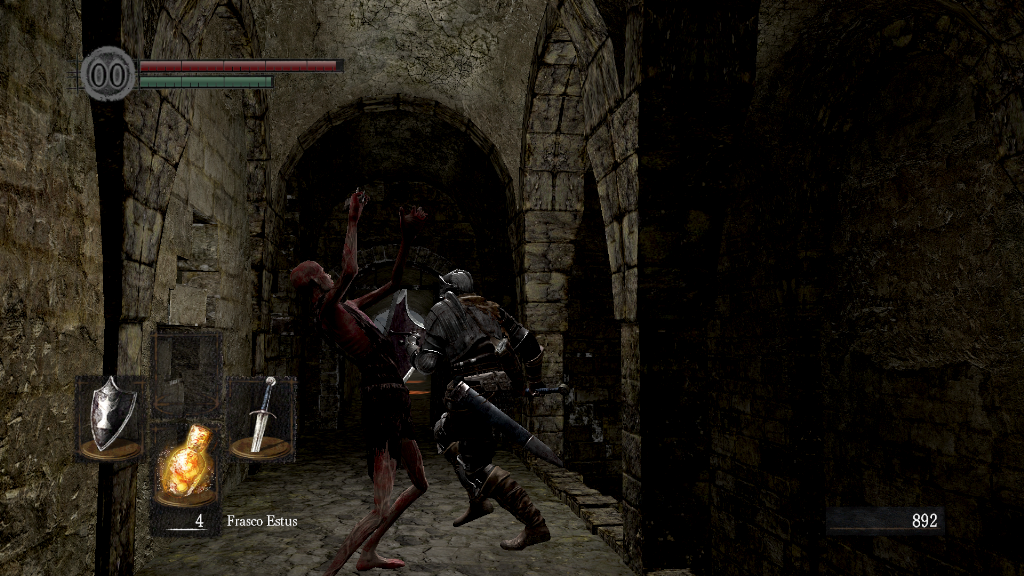health: (138, 58, 343, 71)
hollow: (288, 188, 430, 576)
humanity: (80, 45, 136, 102)
player: (375, 267, 559, 552)
souls: (825, 506, 945, 536)
stamina: (138, 74, 274, 88)
